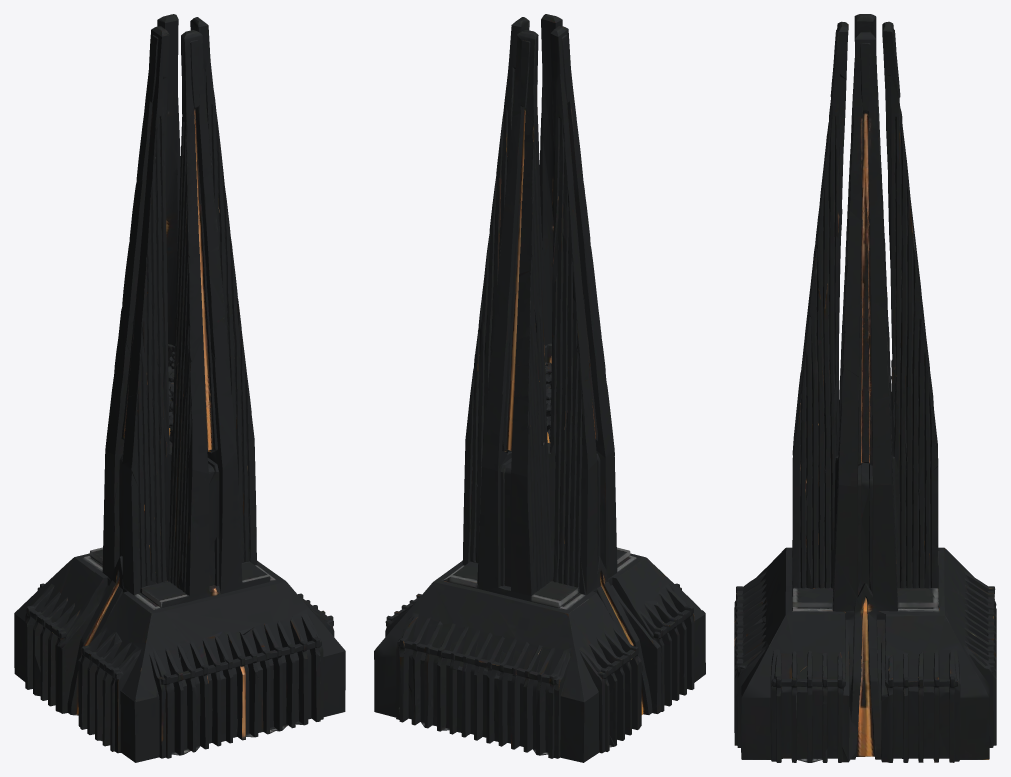
File: fortress.glb
The picture shows the model from 3 angles, left to right: view 1: azimuth 30°, elevation 25°; view 2: azimuth 150°, elevation 25°; view 3: azimuth 270°, elevation 25°; orthographic projection. The views are drawn at different scales.
Parts seen in each view (by area): view 1: fortress-centred; view 2: fortress-centred; view 3: fortress-centred.
Part boxes in pixels (x1,y1,x2,y2): fortress-centred: [14, 14, 345, 762]; fortress-centred: [374, 14, 705, 762]; fortress-centred: [734, 14, 996, 762].
Bounding box in the file's own units: 41.78 × 120 × 41.77.
1 material, 1 textured.
